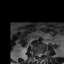CCS_stenosis: (39, 51, 40, 59)
LFS_normal: (42, 51, 44, 57)
LLS_normal: (40, 51, 42, 57)
RFS_normal: (35, 51, 37, 57)
RLS_normal: (37, 51, 39, 58)
